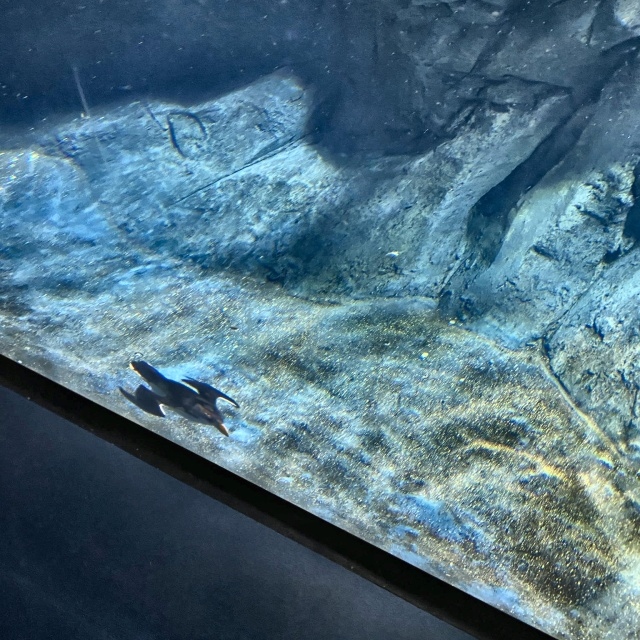puffin: (120, 358, 240, 436)
